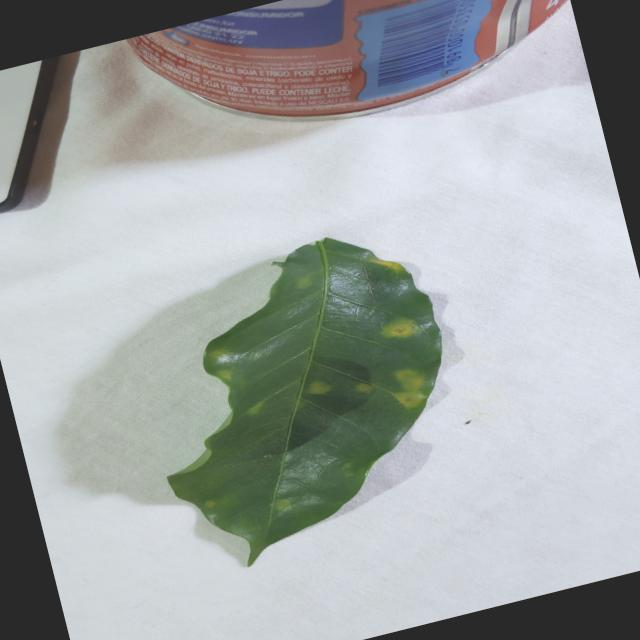KaratDaunKopi: (394, 369, 426, 408), (382, 316, 418, 338), (369, 257, 403, 271), (307, 381, 331, 394), (274, 499, 291, 511), (247, 402, 263, 414), (357, 382, 374, 392), (215, 369, 231, 379), (204, 500, 214, 507)
